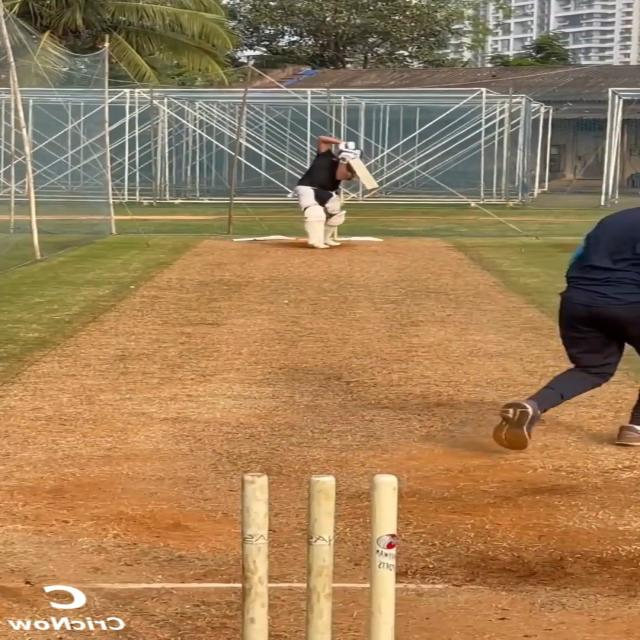stump: (237, 474, 397, 640)
